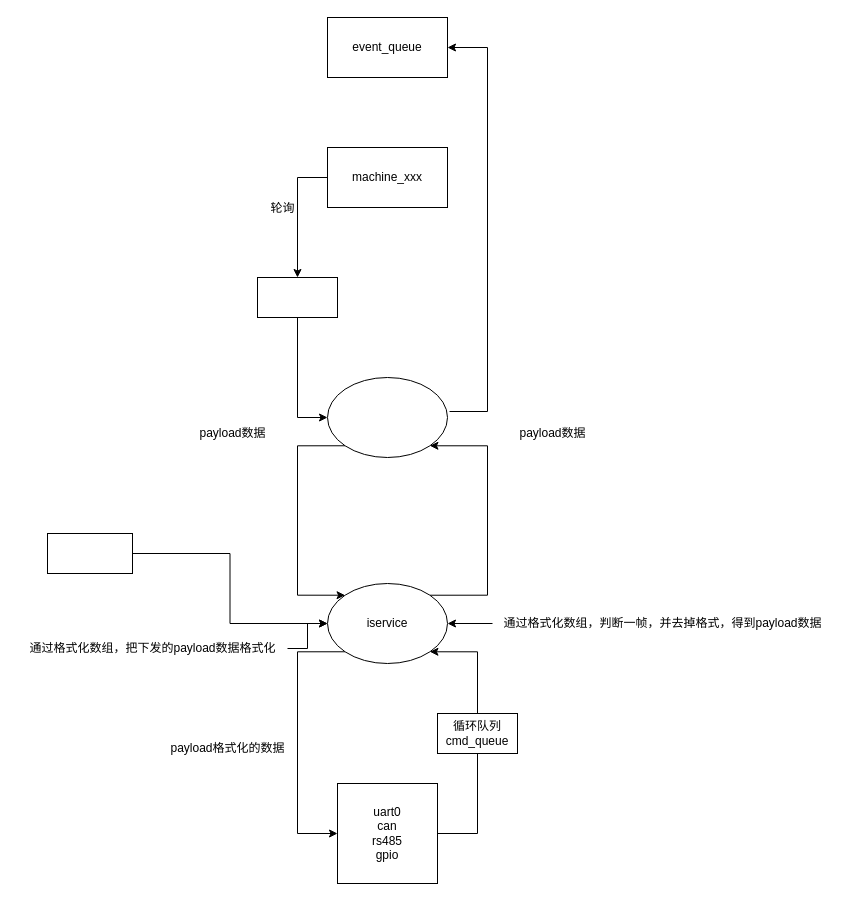
This 849x901 diagram has some shape labels left out. The shapes that lost their labels are listed below. From the top down, each one's centre as x and y in pixels, then its label:
the point at 297,297: 消息队列
the point at 387,417: protocol_server
the point at 89,553: format_array
